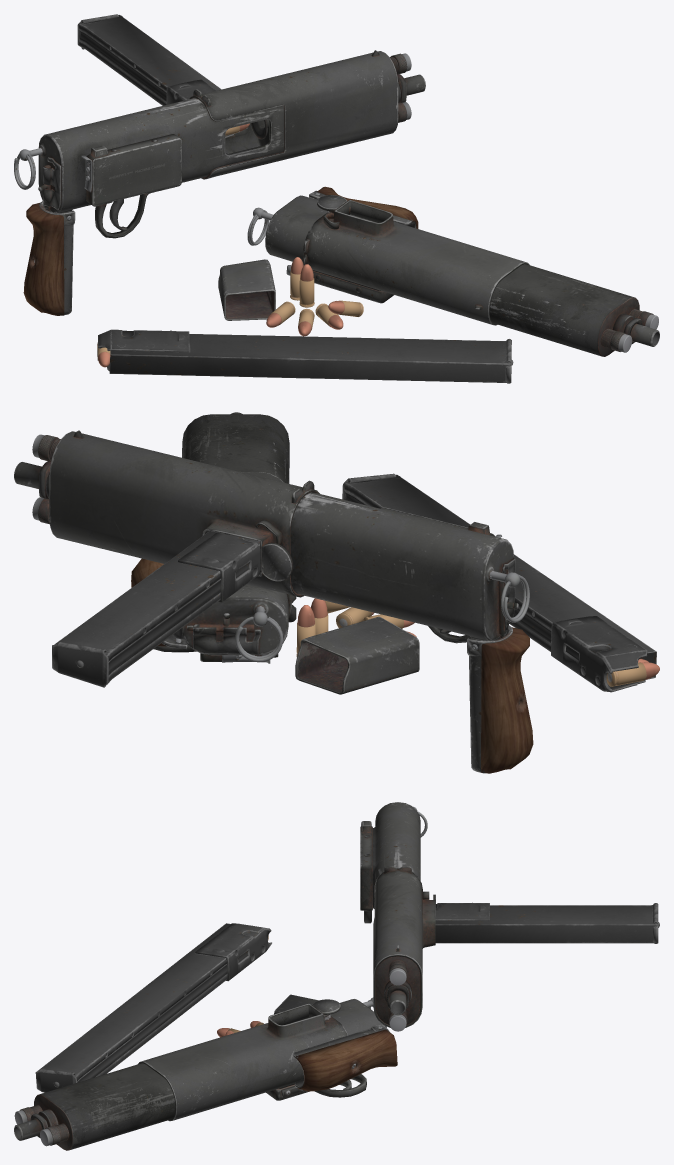
File: andrews.glb
3 views of the same model, one above another, from view 1: azimuth 30°, elevation 25°; view 2: azimuth 150°, elevation 25°; view 3: azimuth 270°, elevation 25° (orthographic). The views are drawn at different scales.
Parts seen in each view (by area): view 1: AndrewsMachineGun_Base, AndrewsMachineGun_MagazineLong.001, AndrewsMachineGun_Hull.001, AndrewsMachineGun_Base.001, AndrewsMachineGun_Hull, AndrewsMachineGun_MagazineShort, AndrewsMachineGun_Handle, AndrewsMachineGun_MagazineConnection.001, AndrewsMachineGun_Handle.001, AndrewsMachineGun_Bullets.001; view 2: AndrewsMachineGun_Base, AndrewsMachineGun_Hull, AndrewsMachineGun_MagazineShort, AndrewsMachineGun_MagazineLong.001, AndrewsMachineGun_Base.001, AndrewsMachineGun_Handle, AndrewsMachineGun_MagazineConnection.001, AndrewsMachineGun_MagazinePusher, AndrewsMachineGun_Handle.001, AndrewsMachineGun_Ring.001, AndrewsMachineGun_Bullets, AndrewsMachineGun_Ring; view 3: AndrewsMachineGun_MagazineLong.001, AndrewsMachineGun_Hull.001, AndrewsMachineGun_Base.001, AndrewsMachineGun_MagazineShort, AndrewsMachineGun_Base, AndrewsMachineGun_Hull, AndrewsMachineGun_Handle.001.
Boxes of the visible parts, x1,y1,x2,y2 form: AndrewsMachineGun_Base: [38, 53, 425, 238]; AndrewsMachineGun_MagazineLong.001: [97, 329, 513, 383]; AndrewsMachineGun_Hull.001: [303, 200, 529, 325]; AndrewsMachineGun_Base.001: [265, 195, 659, 356]; AndrewsMachineGun_Hull: [189, 50, 398, 179]; AndrewsMachineGun_MagazineShort: [77, 14, 249, 138]; AndrewsMachineGun_Handle: [23, 201, 75, 315]; AndrewsMachineGun_MagazineConnection.001: [218, 259, 275, 320]; AndrewsMachineGun_Handle.001: [309, 186, 418, 228]; AndrewsMachineGun_Bullets.001: [299, 264, 314, 307]; AndrewsMachineGun_Base: [14, 434, 515, 643]; AndrewsMachineGun_Hull: [49, 430, 319, 597]; AndrewsMachineGun_MagazineShort: [52, 531, 260, 687]; AndrewsMachineGun_MagazineLong.001: [342, 473, 659, 692]; AndrewsMachineGun_Base.001: [153, 412, 289, 663]; AndrewsMachineGun_Handle: [467, 625, 533, 773]; AndrewsMachineGun_MagazineConnection.001: [295, 616, 419, 694]; AndrewsMachineGun_MagazinePusher: [262, 542, 293, 581]; AndrewsMachineGun_Handle.001: [131, 558, 187, 649]; AndrewsMachineGun_Ring.001: [235, 616, 283, 662]; AndrewsMachineGun_Bullets: [296, 605, 315, 656]; AndrewsMachineGun_Ring: [501, 574, 529, 622]; AndrewsMachineGun_MagazineLong.001: [35, 923, 271, 1092]; AndrewsMachineGun_Hull.001: [138, 1003, 347, 1121]; AndrewsMachineGun_Base.001: [14, 999, 384, 1150]; AndrewsMachineGun_MagazineShort: [435, 902, 659, 943]; AndrewsMachineGun_Base: [360, 802, 420, 1031]; AndrewsMachineGun_Hull: [373, 866, 435, 1027]; AndrewsMachineGun_Handle.001: [293, 1023, 397, 1091].
Bounding box in the file's own units: 0.4454 × 0.1691 × 0.5732.
Materials: 2 (2 with a texture image).
